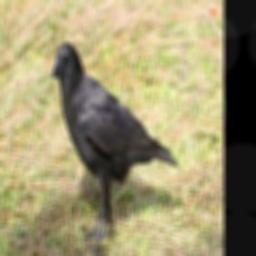Crow: (54, 40, 183, 256)
